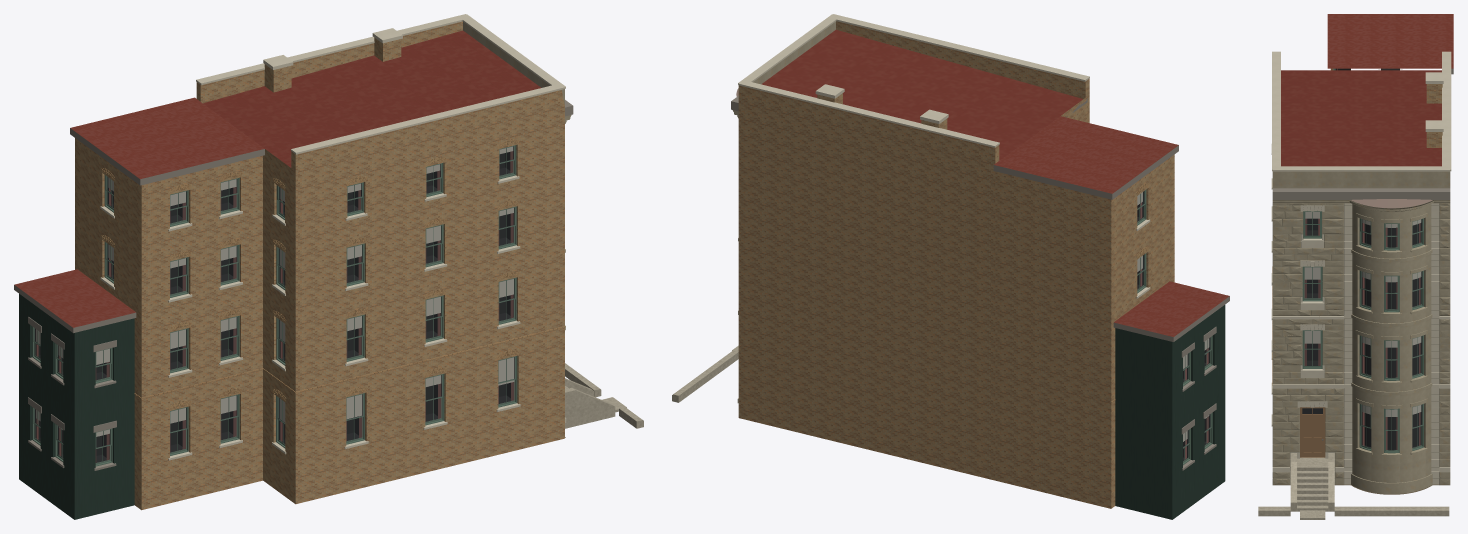
File: house_1619_prairie__as_mapped_1904.glb
The picture shows the model from 3 angles, left to right: view 1: azimuth 30°, elevation 25°; view 2: azimuth 150°, elevation 25°; view 3: azimuth 270°, elevation 25°; orthographic projection. The views are drawn at different scales.
Visible parts, largest first — view 1: house_1619_prairie__as_mapped_1904; view 2: house_1619_prairie__as_mapped_1904; view 3: house_1619_prairie__as_mapped_1904.
Part boxes in pixels (box(x1,y1,x2,y2)): house_1619_prairie__as_mapped_1904: box(14, 14, 643, 519); house_1619_prairie__as_mapped_1904: box(672, 14, 1229, 519); house_1619_prairie__as_mapped_1904: box(1258, 14, 1453, 519).
Bounding box in the file's own units: 26.22 × 17 × 9.29.
23 materials, 13 textured.
